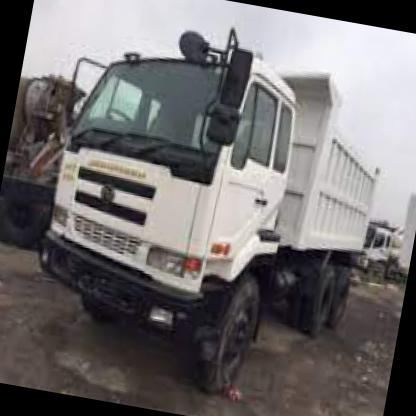truck: (18, 21, 312, 403)
